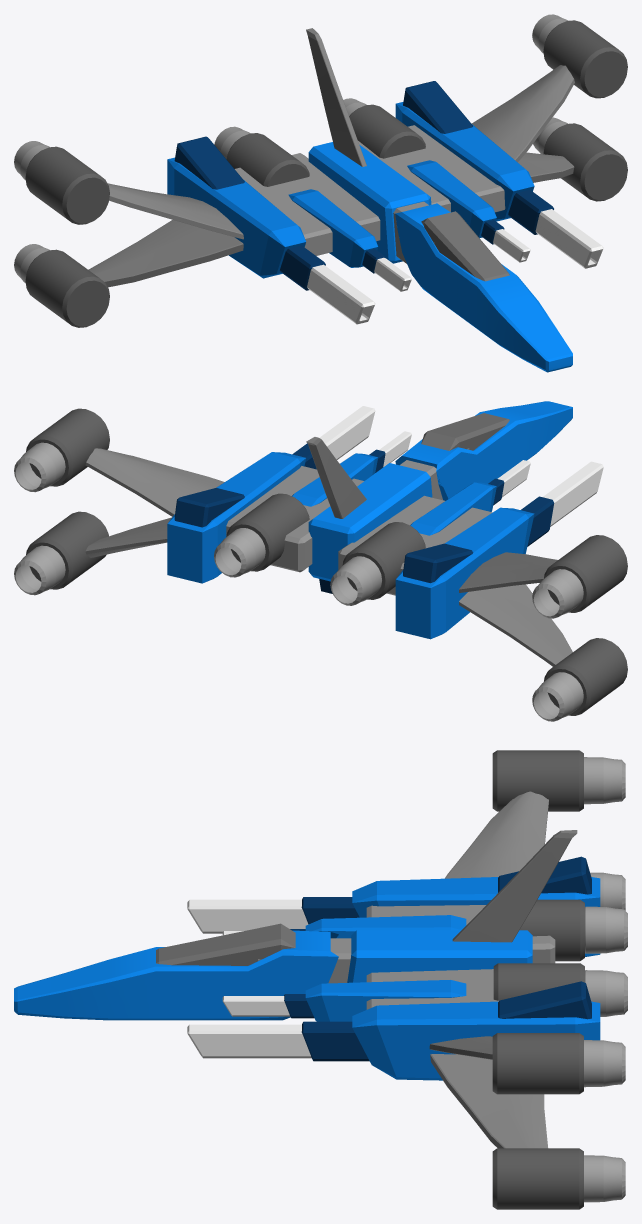
Rendered from Enemy_2.fbx.
The picture shows the model from 3 angles, top to bottom: view 1: azimuth 30°, elevation 25°; view 2: azimuth 150°, elevation 25°; view 3: azimuth 270°, elevation 25°; orthographic projection. The views are drawn at different scales.
Parts seen in each view (by area): view 1: pCube1, pCube4, pCylinder6, pCylinder8, pCube11, pCube15, pCube8, pCylinder3, pCube12, pCube10, pCube16, polySurface1 (+8 smaller); view 2: pCube4, pCube1, pCube15, pCylinder6, pCylinder8, pCube8, pCube10, pCylinder3, pCube11, pCylinder2, pCylinder5, pCylinder7 (+8 smaller); view 3: pCube1, pCube4, pCylinder6, polySurface1, pCube10, pCube12, pCube15, pCube8, pCylinder8, pCylinder3, pCube11, pCube14 (+8 smaller).
Part boxes in pixels (left/top/right/bottom): pCube1: left=395, top=203, right=572, bottom=372; pCube4: left=167, top=102, right=534, bottom=278; pCylinder6: left=25, top=20, right=627, bottom=224; pCylinder8: left=25, top=123, right=627, bottom=327; pCube11: left=235, top=125, right=505, bottom=255; pCube15: left=107, top=65, right=574, bottom=239; pCube8: left=88, top=152, right=574, bottom=287; pCylinder3: left=226, top=104, right=425, bottom=186; pCube12: left=288, top=160, right=496, bottom=267; pCube10: left=308, top=142, right=431, bottom=263; pCube16: left=174, top=81, right=472, bottom=189; polySurface1: left=307, top=209, right=603, bottom=324; pCube4: left=167, top=452, right=534, bottom=639; pCube1: left=395, top=401, right=572, bottom=500; pCube15: left=85, top=448, right=557, bottom=592; pCylinder6: left=26, top=408, right=627, bottom=612; pCylinder8: left=26, top=511, right=627, bottom=715; pCube8: left=85, top=517, right=572, bottom=666; pCube10: left=308, top=463, right=432, bottom=581; pCylinder3: left=226, top=493, right=425, bottom=599; pCube11: left=226, top=466, right=492, bottom=595; pCylinder2: left=214, top=528, right=381, bottom=605; pCylinder5: left=14, top=442, right=583, bottom=618; pCylinder7: left=14, top=545, right=583, bottom=721; pCube1: left=14, top=930, right=338, bottom=1020; pCube4: left=352, top=877, right=600, bottom=1080; pCylinder6: left=492, top=750, right=583, bottom=1094; polySurface1: left=187, top=899, right=311, bottom=1058; pCube10: left=347, top=930, right=532, bottom=982; pCube12: left=305, top=915, right=466, bottom=1021; pCube15: left=429, top=791, right=548, bottom=1059; pCube8: left=430, top=1054, right=547, bottom=1148; pCylinder8: left=492, top=1148, right=583, bottom=1209; pCylinder3: left=493, top=899, right=584, bottom=1000; pCube11: left=366, top=905, right=555, bottom=1009; pCube14: left=452, top=830, right=577, bottom=942.
Size of the model in its own units: 3.21 by 1.13 by 2.69.
